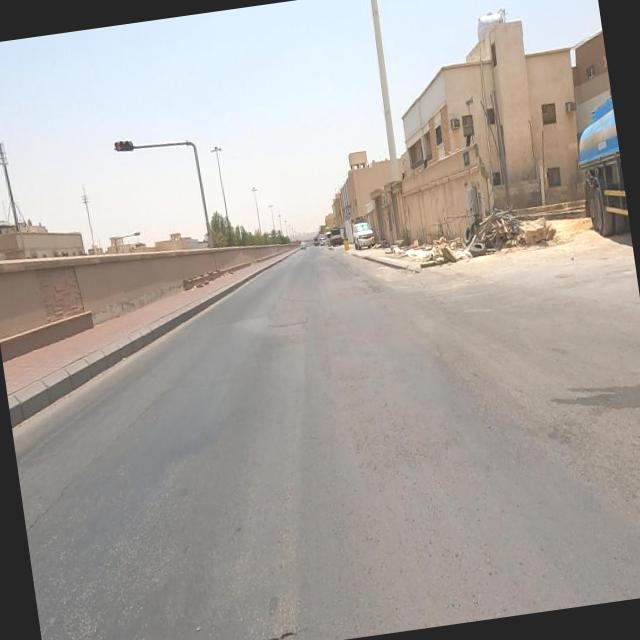debris: (433, 156, 552, 298), (404, 197, 500, 297), (372, 200, 448, 291)
